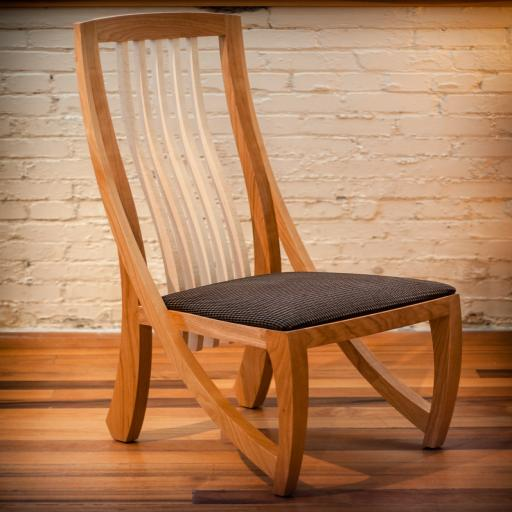chair: (74, 12, 462, 496)
wall: (0, 6, 512, 330)
